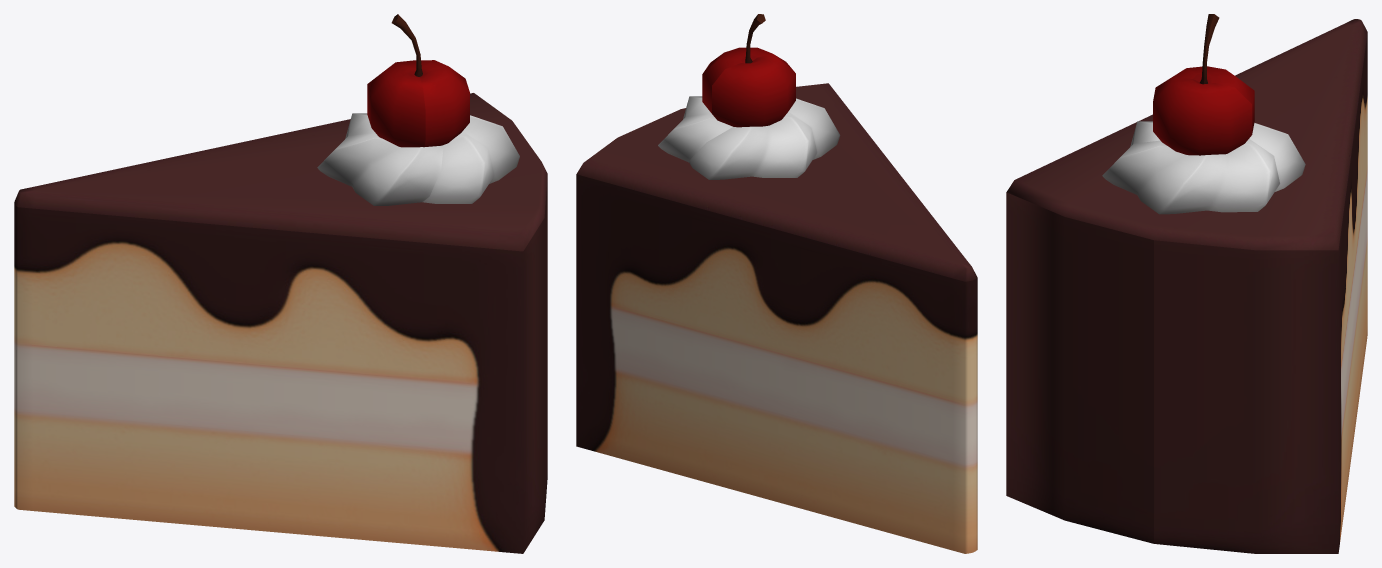
File: Piece of Cake.fbx
The picture shows the model from 3 angles, left to right: view 1: azimuth 30°, elevation 25°; view 2: azimuth 150°, elevation 25°; view 3: azimuth 270°, elevation 25°; orthographic projection. The views are drawn at different scales.
Parts seen in each view (by area): view 1: PieceOfCake_1; view 2: PieceOfCake_1; view 3: PieceOfCake_1.
Boxes of the visible parts, x1,y1,x2,y2 form: PieceOfCake_1: (14,14,547,553); PieceOfCake_1: (576,14,977,553); PieceOfCake_1: (1006,14,1367,553).
Bounding box in the file's own units: 51.39 × 50.98 × 35.4.
Materials: 1 (1 with a texture image).
